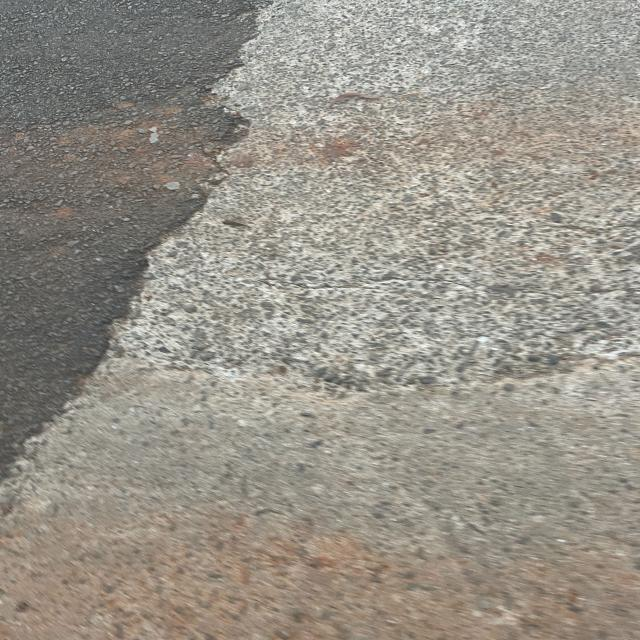D01: (19, 6, 321, 449)
D11: (83, 313, 640, 430)
